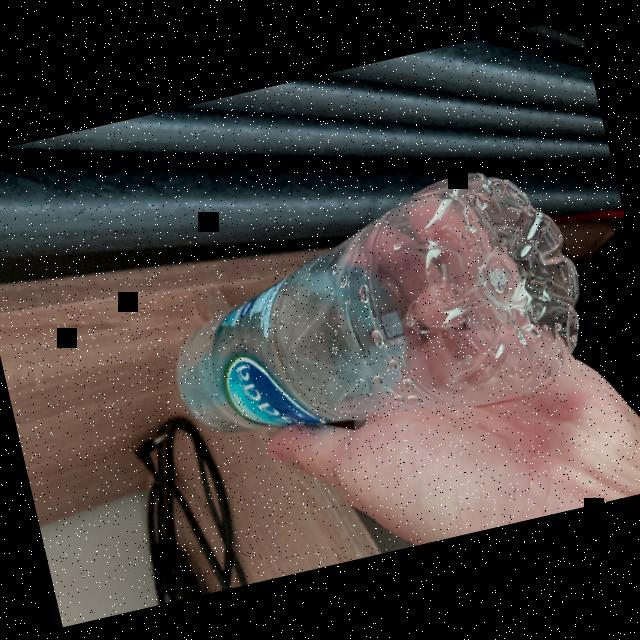plastic_bottle: (136, 144, 611, 478)
